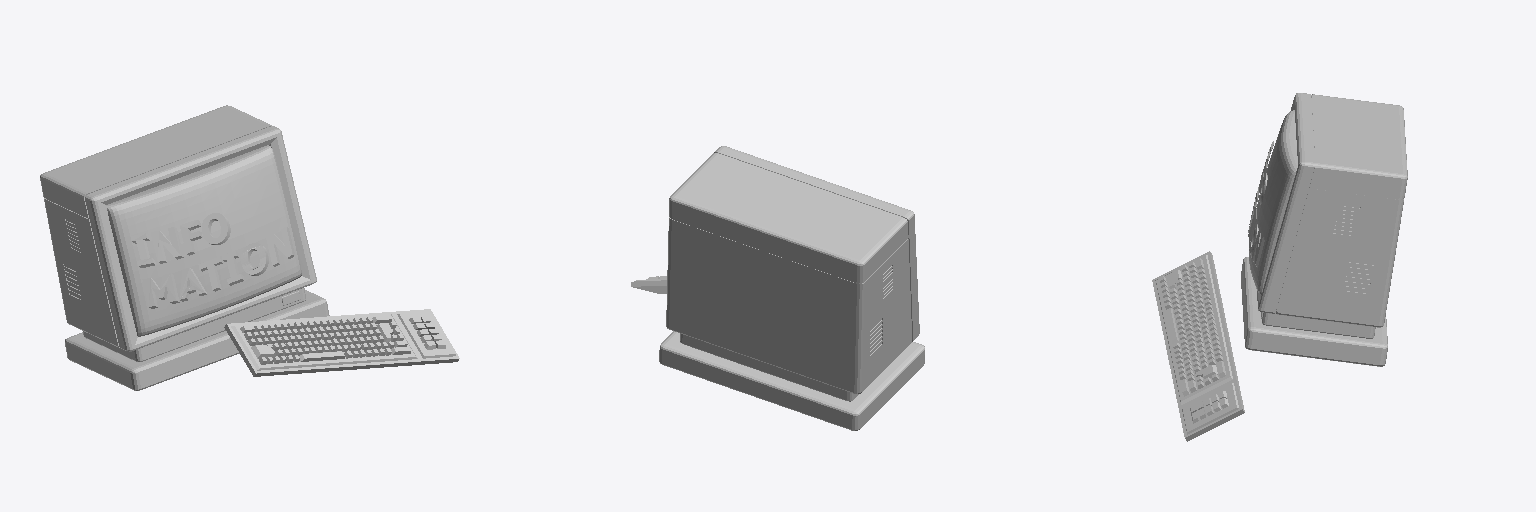
Rendered from パソコン.obj.
3 renders of one model, left to right at view 1: azimuth 30°, elevation 25°; view 2: azimuth 150°, elevation 25°; view 3: azimuth 270°, elevation 25°, orthographic.
Visible parts, largest first — view 1: 平面_slice.004, ピンク画面, 立方体.026, テキスト; view 2: 平面_slice.004; view 3: 平面_slice.004, 立方体.026, ピンク画面, テキスト.
Boxes of the visible parts, x1,y1,x2,y2 form: 平面_slice.004: [40, 105, 329, 390]; ピンク画面: [106, 145, 301, 336]; 立方体.026: [224, 309, 459, 376]; テキスト: [131, 213, 294, 308]; 平面_slice.004: [659, 146, 924, 430]; 平面_slice.004: [1241, 93, 1407, 366]; 立方体.026: [1152, 251, 1244, 441]; ピンク画面: [1249, 110, 1297, 294]; テキスト: [1248, 141, 1273, 267].
Size of the model in its own units: 0.8563 by 0.5758 by 0.6069.